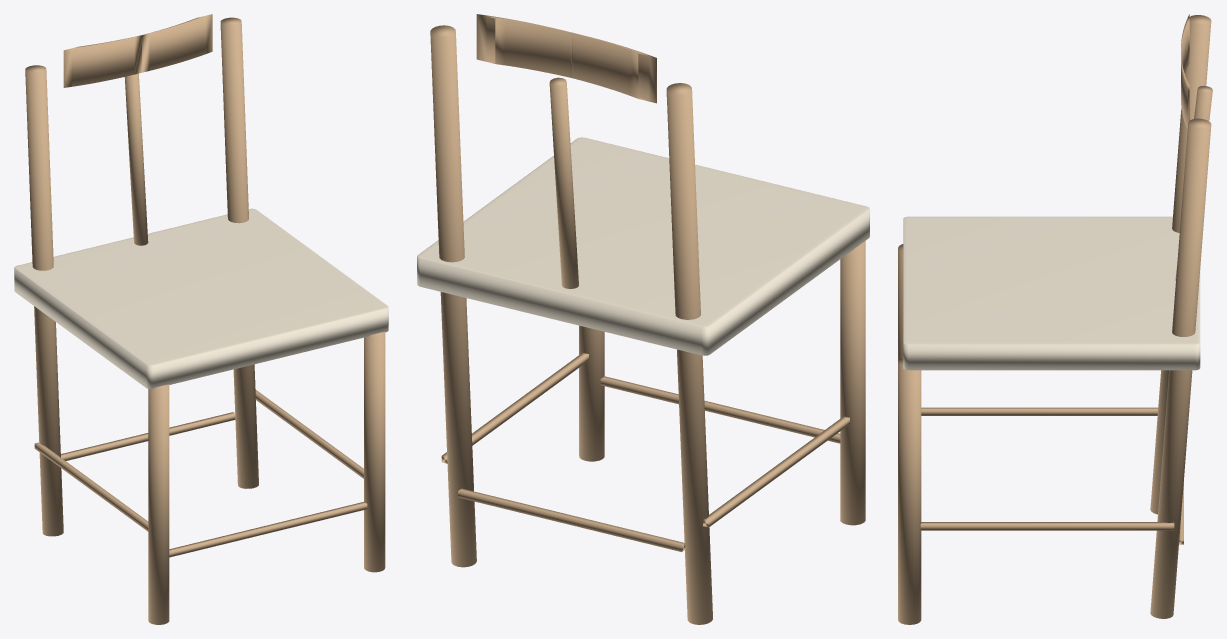
Rendered from chair_dining.glb.
The picture shows the model from 3 angles, left to right: view 1: azimuth 30°, elevation 25°; view 2: azimuth 150°, elevation 25°; view 3: azimuth 270°, elevation 25°; orthographic projection. The views are drawn at different scales.
Visible parts, largest first — view 1: Cube.004, Cylinder.002, Cylinder.003, CrestRail, Cylinder, Cylinder.001, Cylinder.004, Cube.002, Cube.003, Cube, Cube.001; view 2: Cube.004, Cylinder.002, Cylinder.003, CrestRail, Cylinder, Cylinder.004, Cylinder.001, Cube.003, Cube.002, Cube, Cube.001; view 3: Cube.004, Cylinder.003, Cylinder.001, Cylinder.002, Cube.001, Cube, CrestRail, Cylinder, Cylinder.004.
Boxes of the visible parts, left/top/right/bottom form: Cube.004: left=14, top=208, right=388, bottom=389; Cylinder.002: left=25, top=65, right=63, bottom=536; Cylinder.003: left=220, top=17, right=258, bottom=488; CrestRail: left=63, top=14, right=212, bottom=87; Cylinder: left=148, top=384, right=169, bottom=624; Cylinder.001: left=364, top=331, right=385, bottom=572; Cylinder.004: left=124, top=73, right=148, bottom=245; Cube.002: left=169, top=501, right=367, bottom=557; Cube.003: left=61, top=412, right=235, bottom=460; Cube: left=34, top=442, right=148, bottom=531; Cube.001: left=255, top=390, right=363, bottom=478; Cube.004: left=417, top=137, right=869, bottom=355; Cylinder.002: left=666, top=83, right=712, bottom=624; Cylinder.003: left=430, top=25, right=476, bottom=567; CrestRail: left=476, top=14, right=656, bottom=103; Cylinder: left=840, top=241, right=865, bottom=525; Cylinder.004: left=549, top=77, right=578, bottom=288; Cylinder.001: left=579, top=325, right=604, bottom=461; Cube.003: left=458, top=488, right=685, bottom=551; Cube.002: left=600, top=376, right=840, bottom=443; Cube: left=703, top=416, right=849, bottom=527; Cube.001: left=441, top=352, right=588, bottom=463; Cube.004: left=903, top=216, right=1200, bottom=370; Cylinder.003: left=1150, top=118, right=1211, bottom=618; Cylinder.001: left=898, top=358, right=921, bottom=624; Cylinder.002: left=1150, top=15, right=1211, bottom=514; Cube.001: left=920, top=522, right=1174, bottom=530; Cube: left=921, top=407, right=1157, bottom=415; CrestRail: left=1181, top=14, right=1189, bottom=129; Cylinder: left=898, top=244, right=903, bottom=361; Cylinder.004: left=1175, top=86, right=1212, bottom=280.
Size of the model in its own units: 0.47 by 0.8702 by 0.4877.
